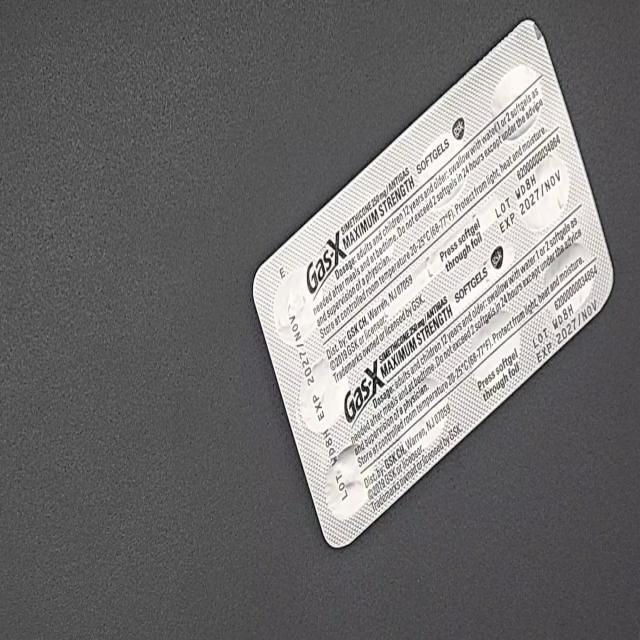no defect: (10, 23, 32, 68)
